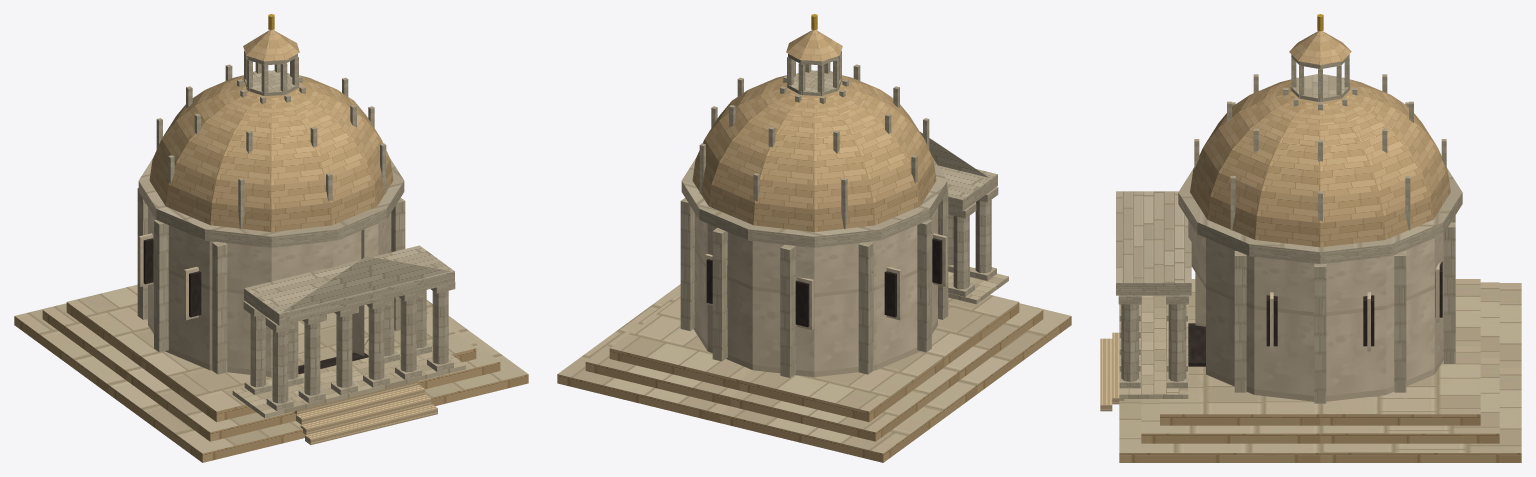
File: ae_sand_dome_temple_lod1.glb
3 views of the same model, side by side, from view 1: azimuth 30°, elevation 25°; view 2: azimuth 150°, elevation 25°; view 3: azimuth 270°, elevation 25° (orthographic). The views are drawn at different scales.
Visible parts, largest first — view 1: ae_sand_dome_temple_lod1; view 2: ae_sand_dome_temple_lod1; view 3: ae_sand_dome_temple_lod1.
Boxes of the visible parts, left/top/right/bottom form: ae_sand_dome_temple_lod1: left=14, top=14, right=528, bottom=462; ae_sand_dome_temple_lod1: left=557, top=14, right=1071, bottom=462; ae_sand_dome_temple_lod1: left=1100, top=14, right=1521, bottom=462.
Bounding box in the file's own units: 9.72 × 9.66 × 10.17.
1 material, 1 textured.
